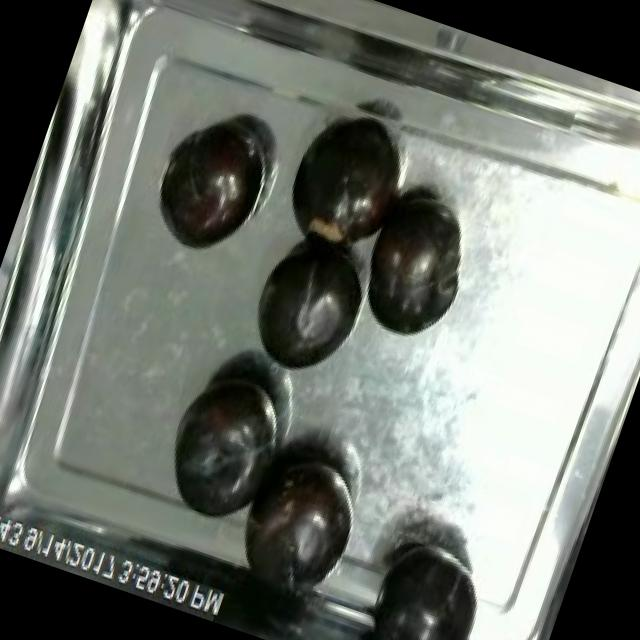Fruit: (214, 430, 380, 622), (146, 352, 302, 538), (273, 98, 420, 266), (232, 225, 378, 392), (344, 182, 486, 353), (140, 108, 280, 268), (342, 523, 505, 640)
